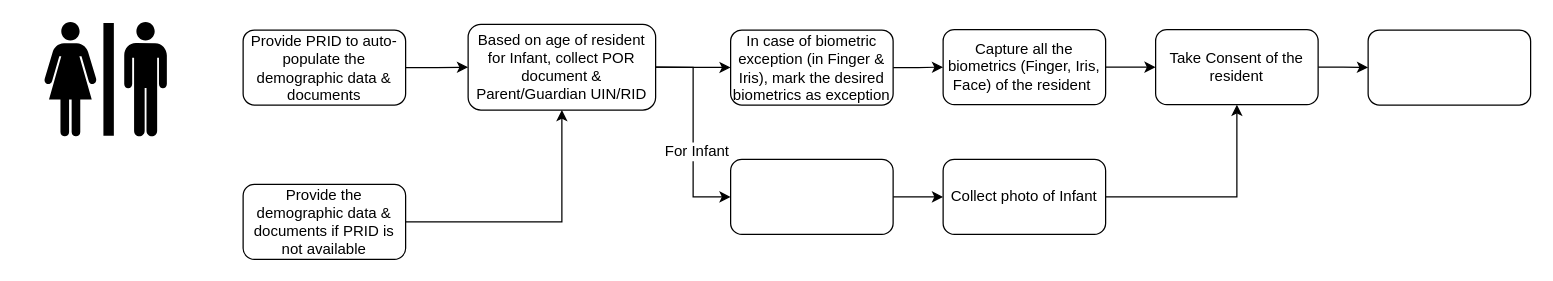
Image size: 1553x281. Some labels were removed from this diagram. Each missing label, with the centre of its shape:
Acknowledgement & Request ID is created: (1449,67)
Capture Parent or Guardian's biometrics for authentication: (811,196)
Resident visits the center and requests for registering in MOSIP: (104,79)
